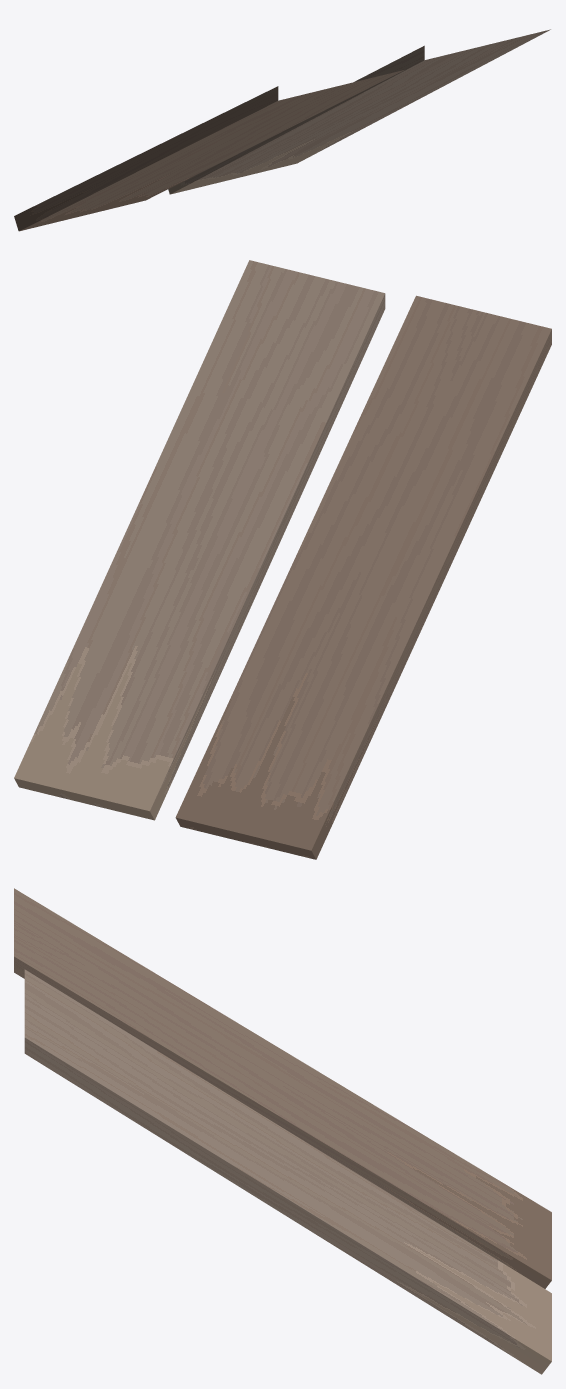
The model's file is kd_stage_135b75_4_51.glb.
3 renders of one model, top to bottom at view 1: azimuth 30°, elevation 25°; view 2: azimuth 150°, elevation 25°; view 3: azimuth 270°, elevation 25°, orthographic. The views are drawn at different scales.
Parts seen in each view (by area): view 1: kd_stage_135b75_4_51; view 2: kd_stage_135b75_4_51; view 3: kd_stage_135b75_4_51.
Part boxes in pixels (x1,y1,x2,y2): kd_stage_135b75_4_51: [14, 29, 550, 231]; kd_stage_135b75_4_51: [14, 260, 551, 859]; kd_stage_135b75_4_51: [14, 888, 551, 1374].
Bounding box in the file's own units: 0.4685 × 0.4756 × 0.6666.
1 material, 1 textured.
